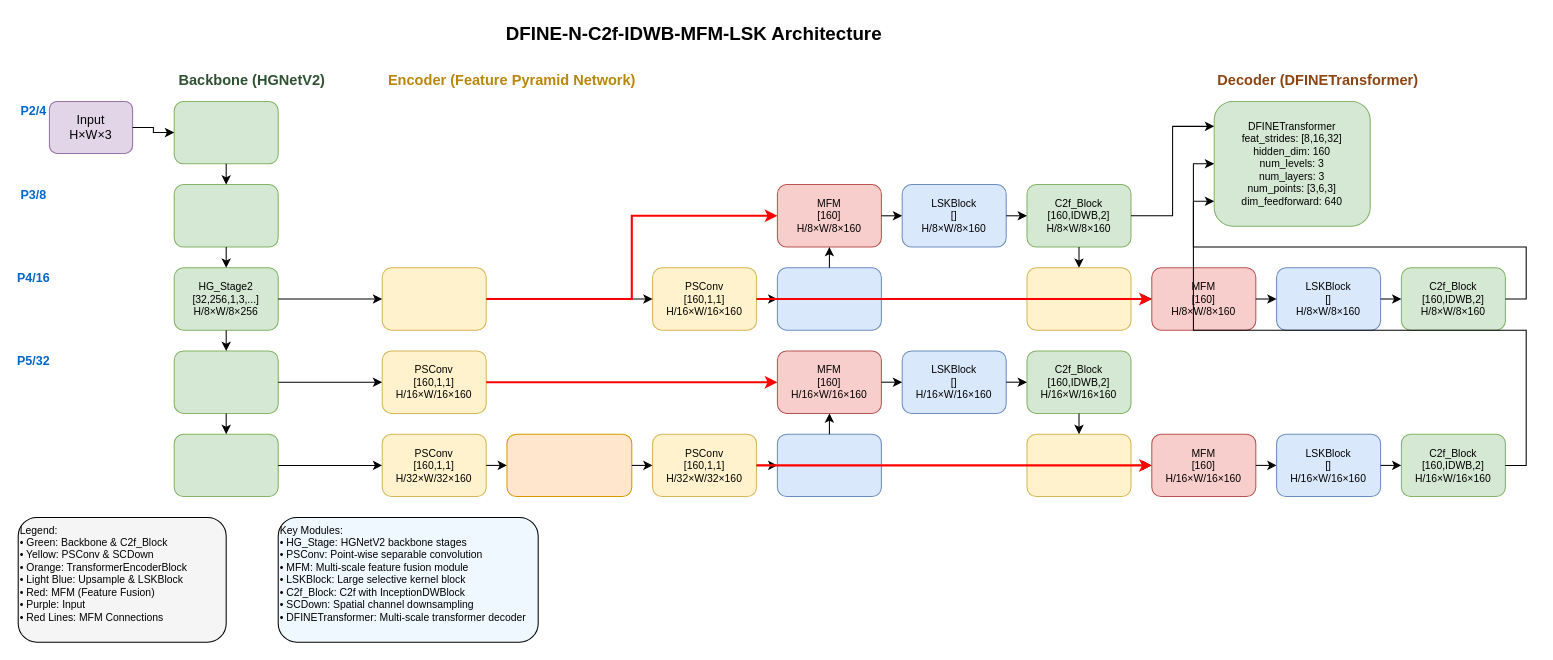
The diagram is 1553 pixels wide and 660 high, and some of its shapes have lost their labels. Each missing label, with the box of its shape:
HG_Stage1 [16,64,1,3,...] H/4×W/4×64: (173, 184, 278, 247)
HG_Stage3 [64,512,2,3,...] H/16×W/16×512: (173, 350, 278, 413)
HG_Stage4 [128,1024,1,3,...] H/32×W/32×1024: (173, 433, 278, 497)
PSConv [160,1,1] H/8×W/8×160: (381, 267, 486, 330)
SCDown [160,3,2,'silu'] H/16×W/16×160: (1026, 433, 1131, 497)
SCDown [160,3,2,'silu'] H/8×W/8×160: (1026, 267, 1131, 330)
StemBlock [16,16,True] H/4×W/4×16: (173, 100, 278, 164)
TransformerEncoderBlock [8,640,0.1,...] H/32×W/32×160: (506, 433, 632, 497)
Upsample [None,2,'nearest'] H/16×W/16×160: (776, 433, 881, 497)
Upsample [None,2,'nearest'] H/8×W/8×160: (776, 267, 881, 330)
